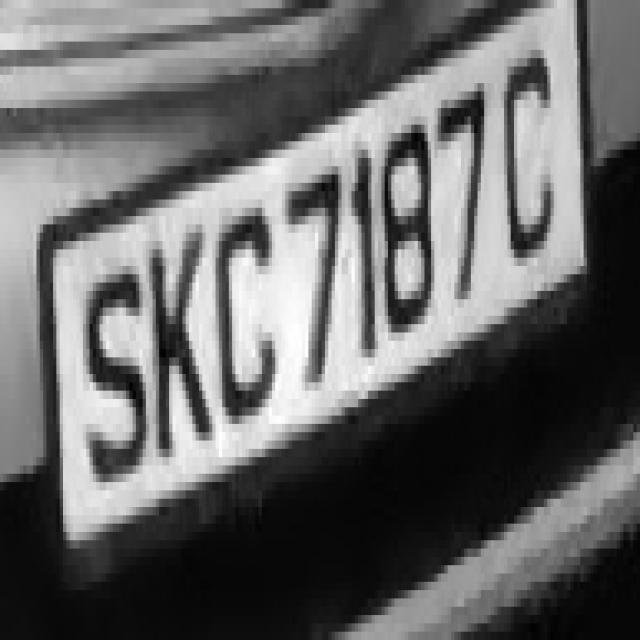1: (345, 125, 385, 399)
7: (272, 158, 345, 399), (428, 66, 497, 308)
8: (374, 100, 438, 357)
C: (212, 183, 279, 432), (498, 41, 560, 291)
K: (143, 191, 209, 466)
S: (86, 233, 146, 515)
